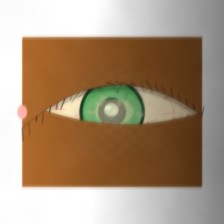corneal_ulcer: (83, 87, 145, 137)
